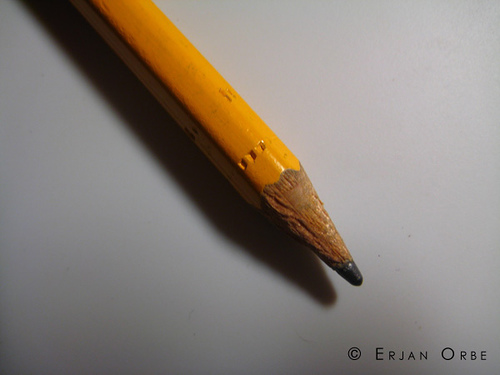pen_tip: (219, 146, 391, 291)
